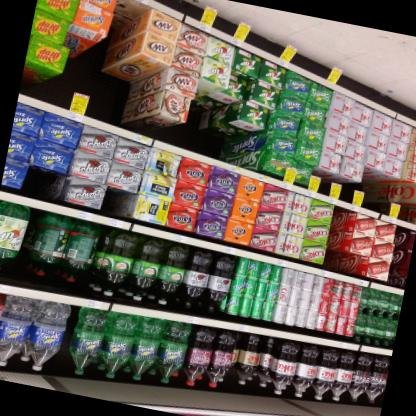empty_space: (112, 0, 152, 31)
